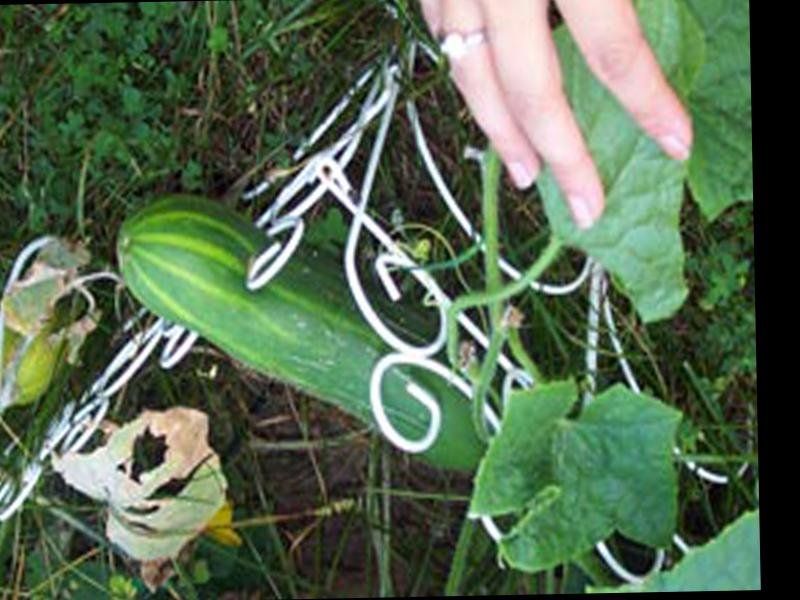Cucumber: (116, 189, 492, 479)
